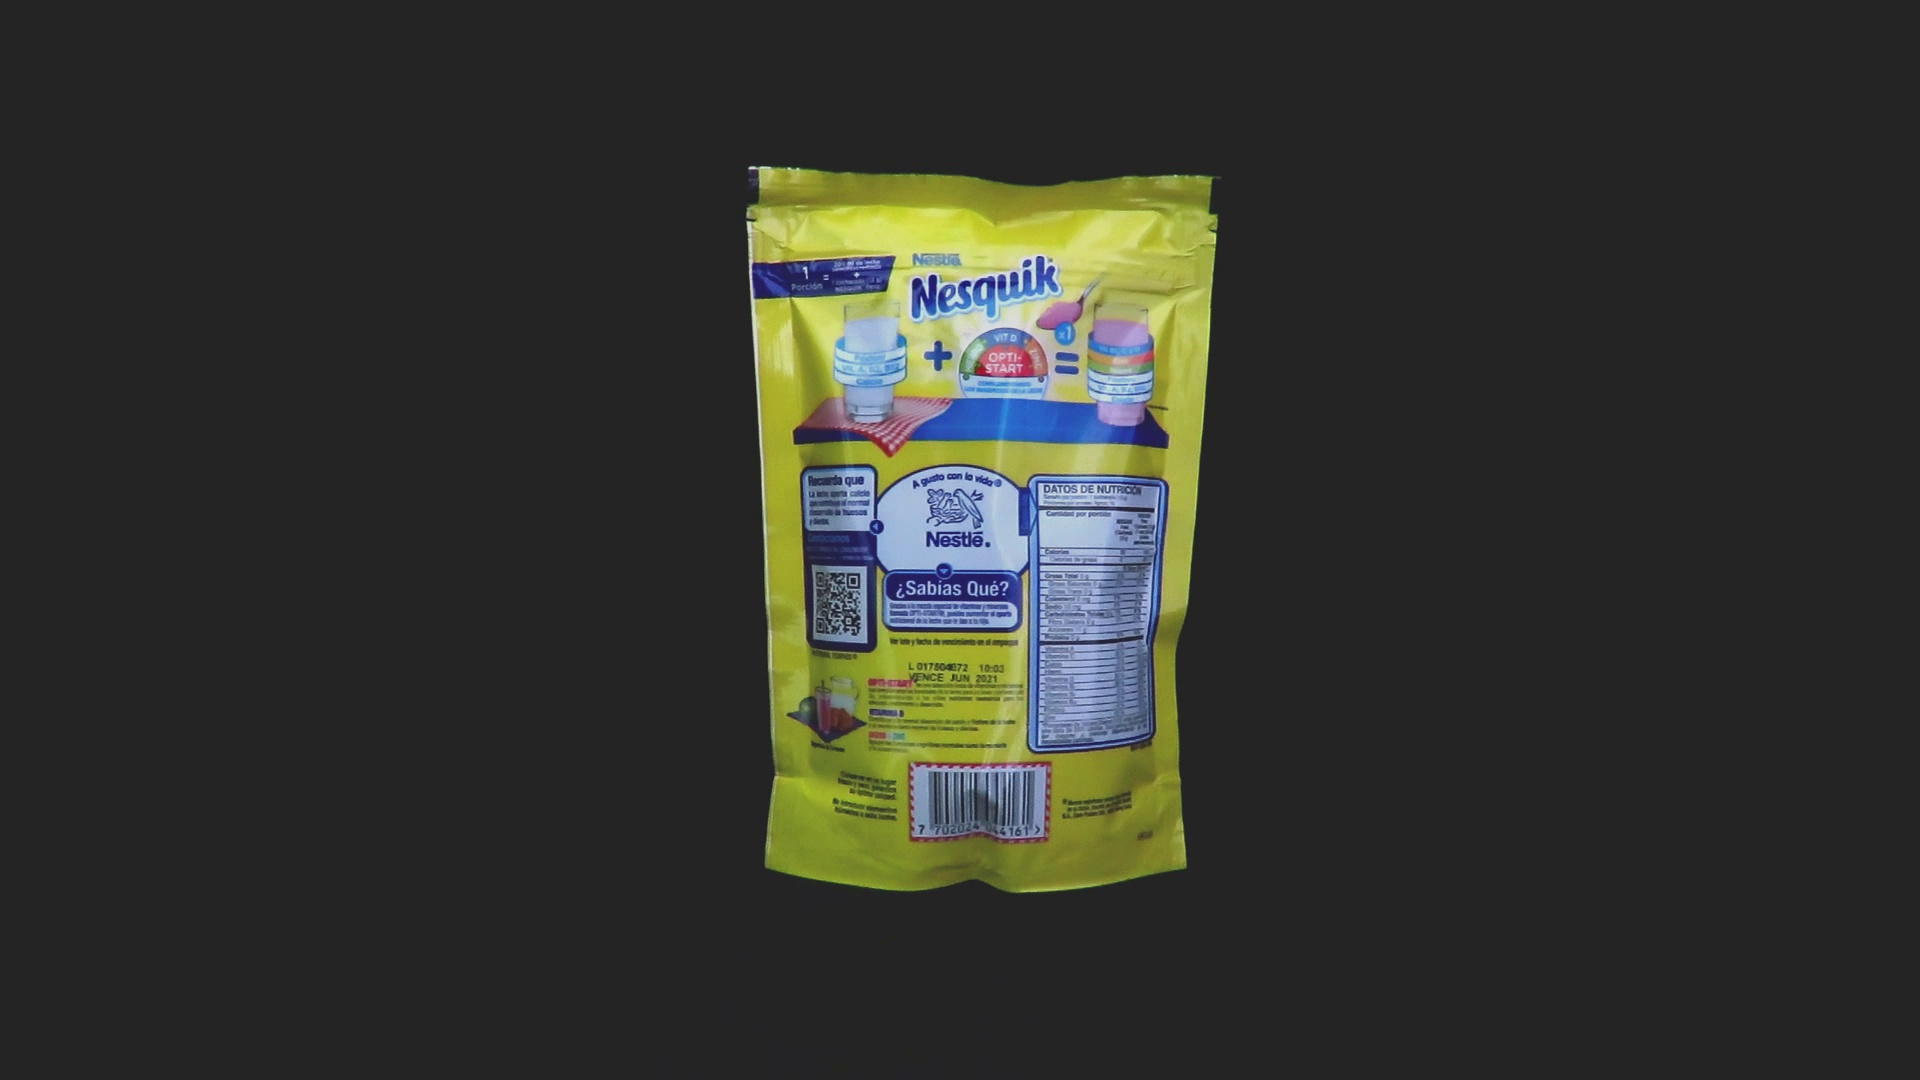COL0170305DYP20000: (741, 161, 1226, 899)
